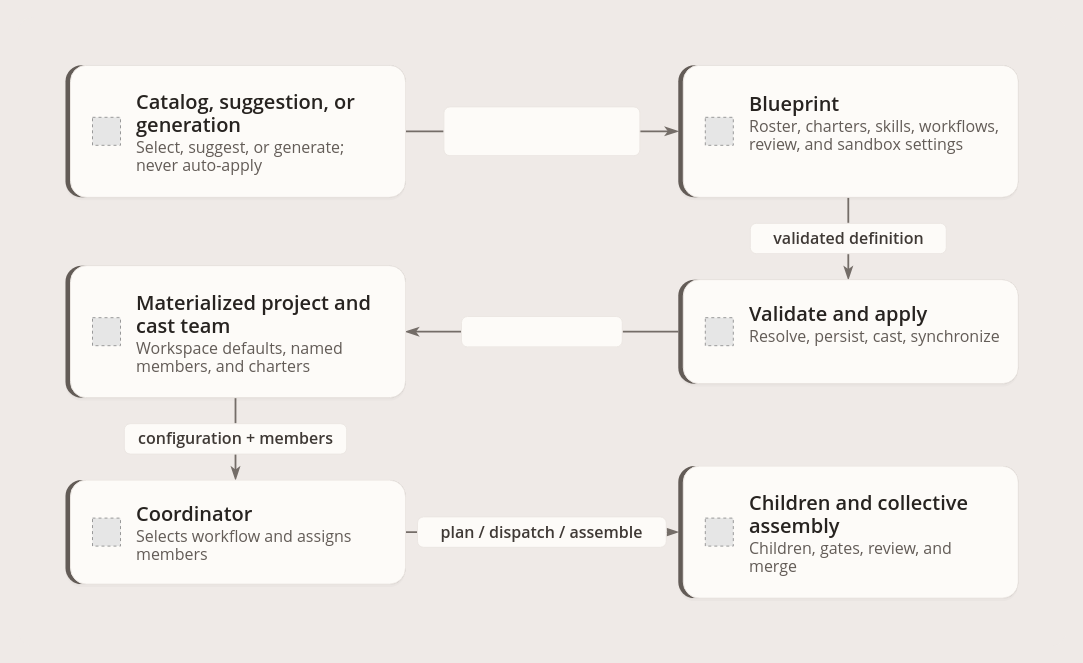
The diagram is 1083 pixels wide and 663 high, and some of its shapes have lost their labels. Grey dashed boxes stand in for pictures. The centre of each missing label's shape, as x and y in pixels:
persist and cast: the point at 541,331
select / recommend / generate: the point at 541,131
